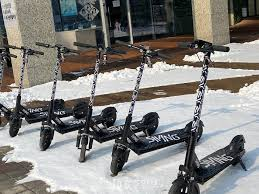kick_board: (109, 42, 202, 175)
kick_handler: (117, 39, 171, 61), (176, 38, 228, 54), (74, 41, 126, 54), (3, 44, 44, 57), (36, 41, 80, 53)
kick_neck: (89, 60, 99, 118), (49, 60, 59, 114), (17, 61, 25, 107)
kick_wheel: (229, 135, 245, 164), (111, 148, 126, 174), (143, 111, 158, 134), (39, 129, 52, 151), (102, 106, 116, 126), (9, 116, 19, 137), (74, 103, 87, 118)
